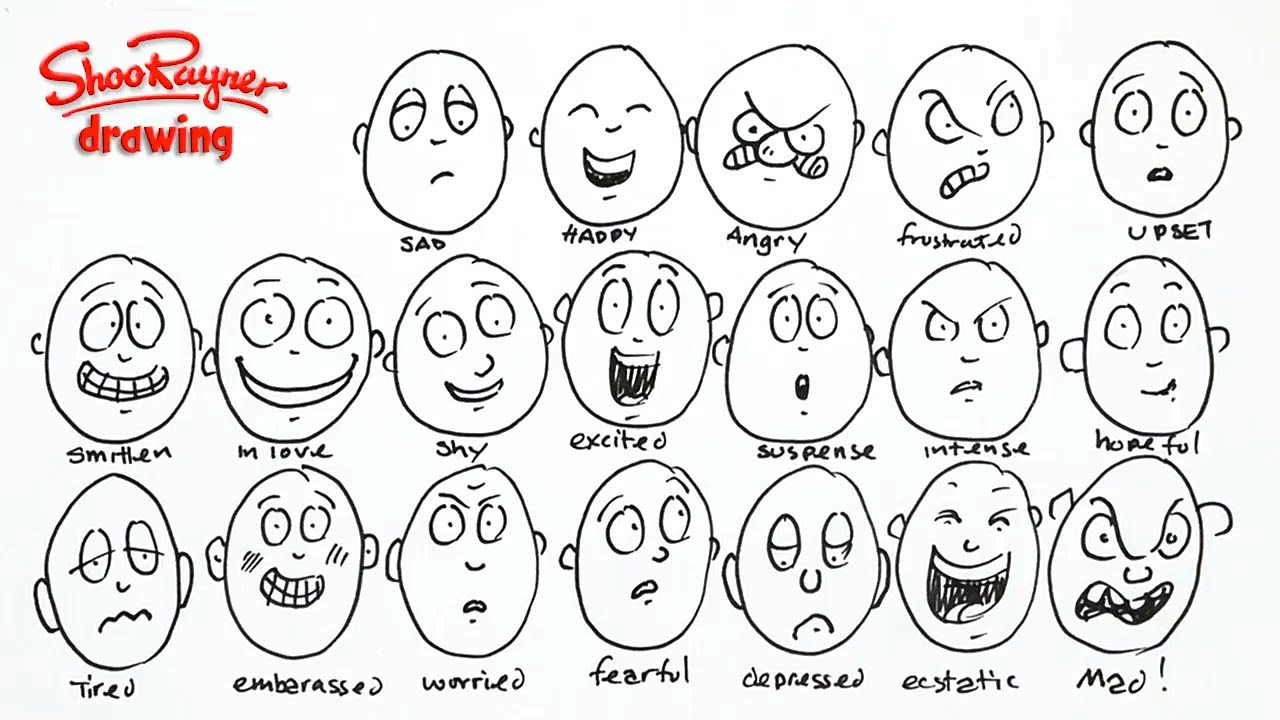feliz: (221, 256, 375, 450), (540, 56, 680, 222), (236, 271, 360, 413), (561, 81, 651, 198)
